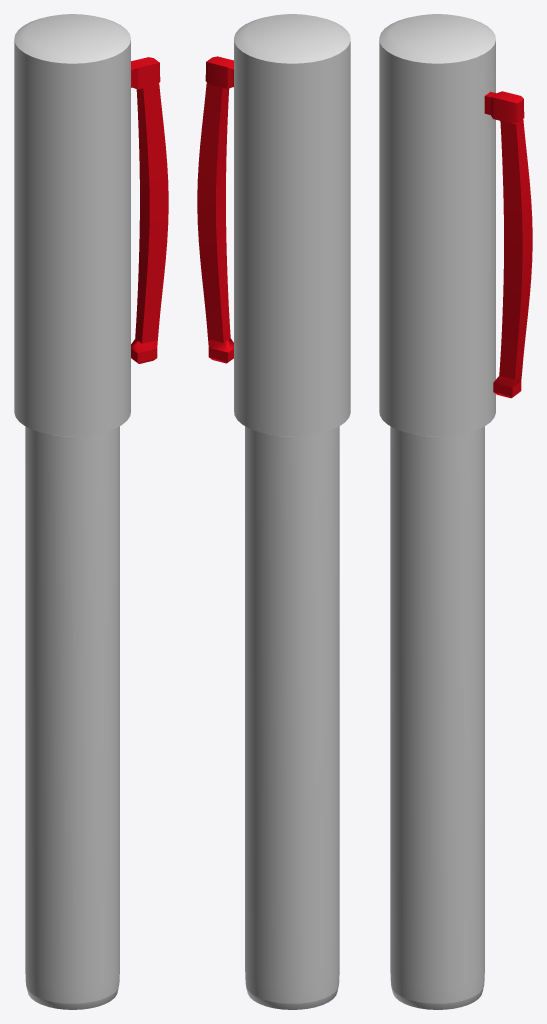
The model's file is PenUnwrapped.fbx.
3 views of the same model, side by side, from view 1: azimuth 30°, elevation 25°; view 2: azimuth 150°, elevation 25°; view 3: azimuth 330°, elevation 25° (orthographic).
Visible parts, largest first — view 1: stift2; view 2: stift2; view 3: stift2.
Boxes of the visible parts, x1=… form: stift2: x1=14, y1=14, x2=168, y2=1009; stift2: x1=197, y1=14, x2=350, y2=1009; stift2: x1=379, y1=14, x2=532, y2=1009.
Size of the model in its own units: 101 by 657 by 72.45.
